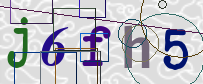5: (163, 28, 187, 69)
6: (40, 26, 67, 66)
f: (82, 25, 111, 65)
h: (124, 24, 149, 68)
j: (6, 17, 28, 68)
